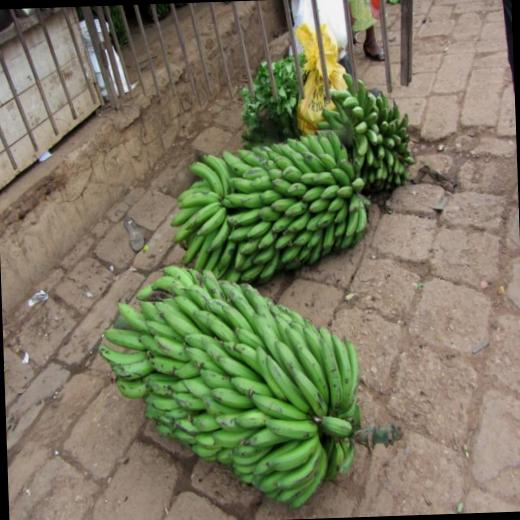Banana: (90, 70, 426, 519), (248, 386, 310, 422)
